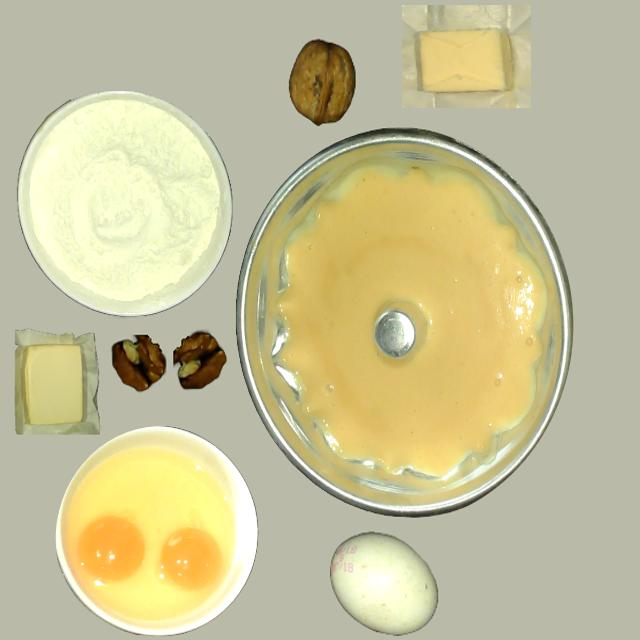Egg: (78, 516, 144, 582), (160, 529, 220, 589)
Flour: (17, 93, 229, 318)
Walnut: (289, 40, 354, 124)
